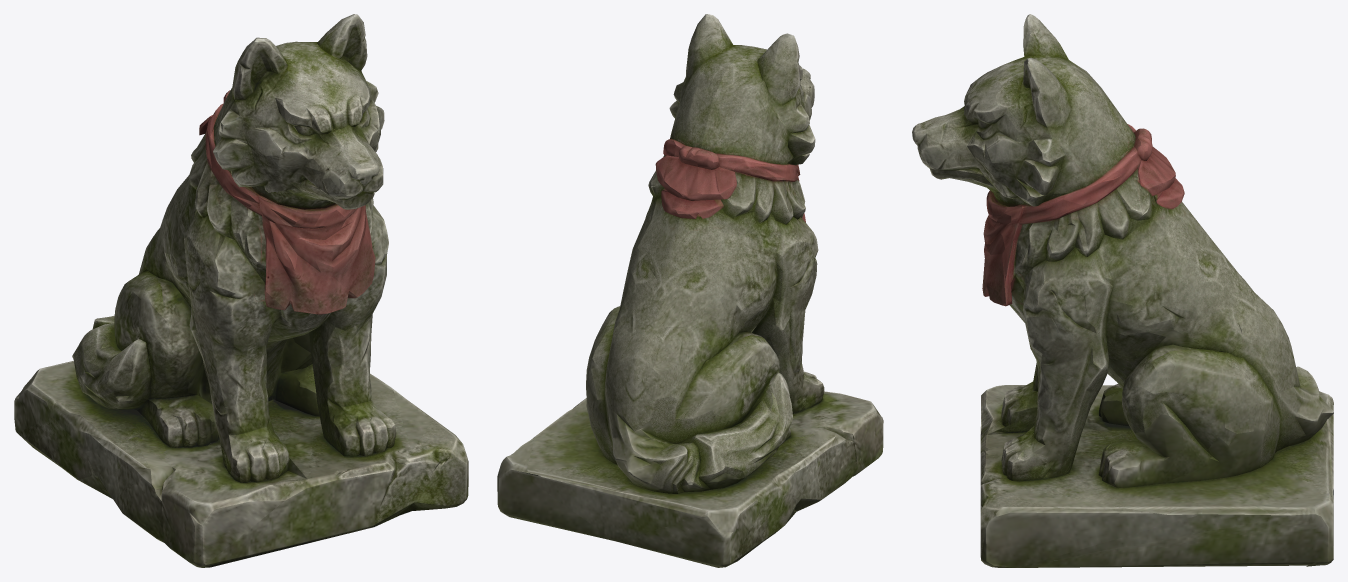
File: guardian_statue.glb
3 views of the same model, side by side, from view 1: azimuth 30°, elevation 25°; view 2: azimuth 150°, elevation 25°; view 3: azimuth 270°, elevation 25° (orthographic). The views are drawn at different scales.
Visible parts, largest first — view 1: guardian_statue; view 2: guardian_statue; view 3: guardian_statue.
Boxes of the visible parts, bbox=[...] form: guardian_statue: bbox=[14, 14, 468, 567]; guardian_statue: bbox=[497, 14, 883, 567]; guardian_statue: bbox=[912, 14, 1333, 567].
Size of the model in its own units: 1.51 by 2.6 by 2.12.
1 material, 1 textured.
